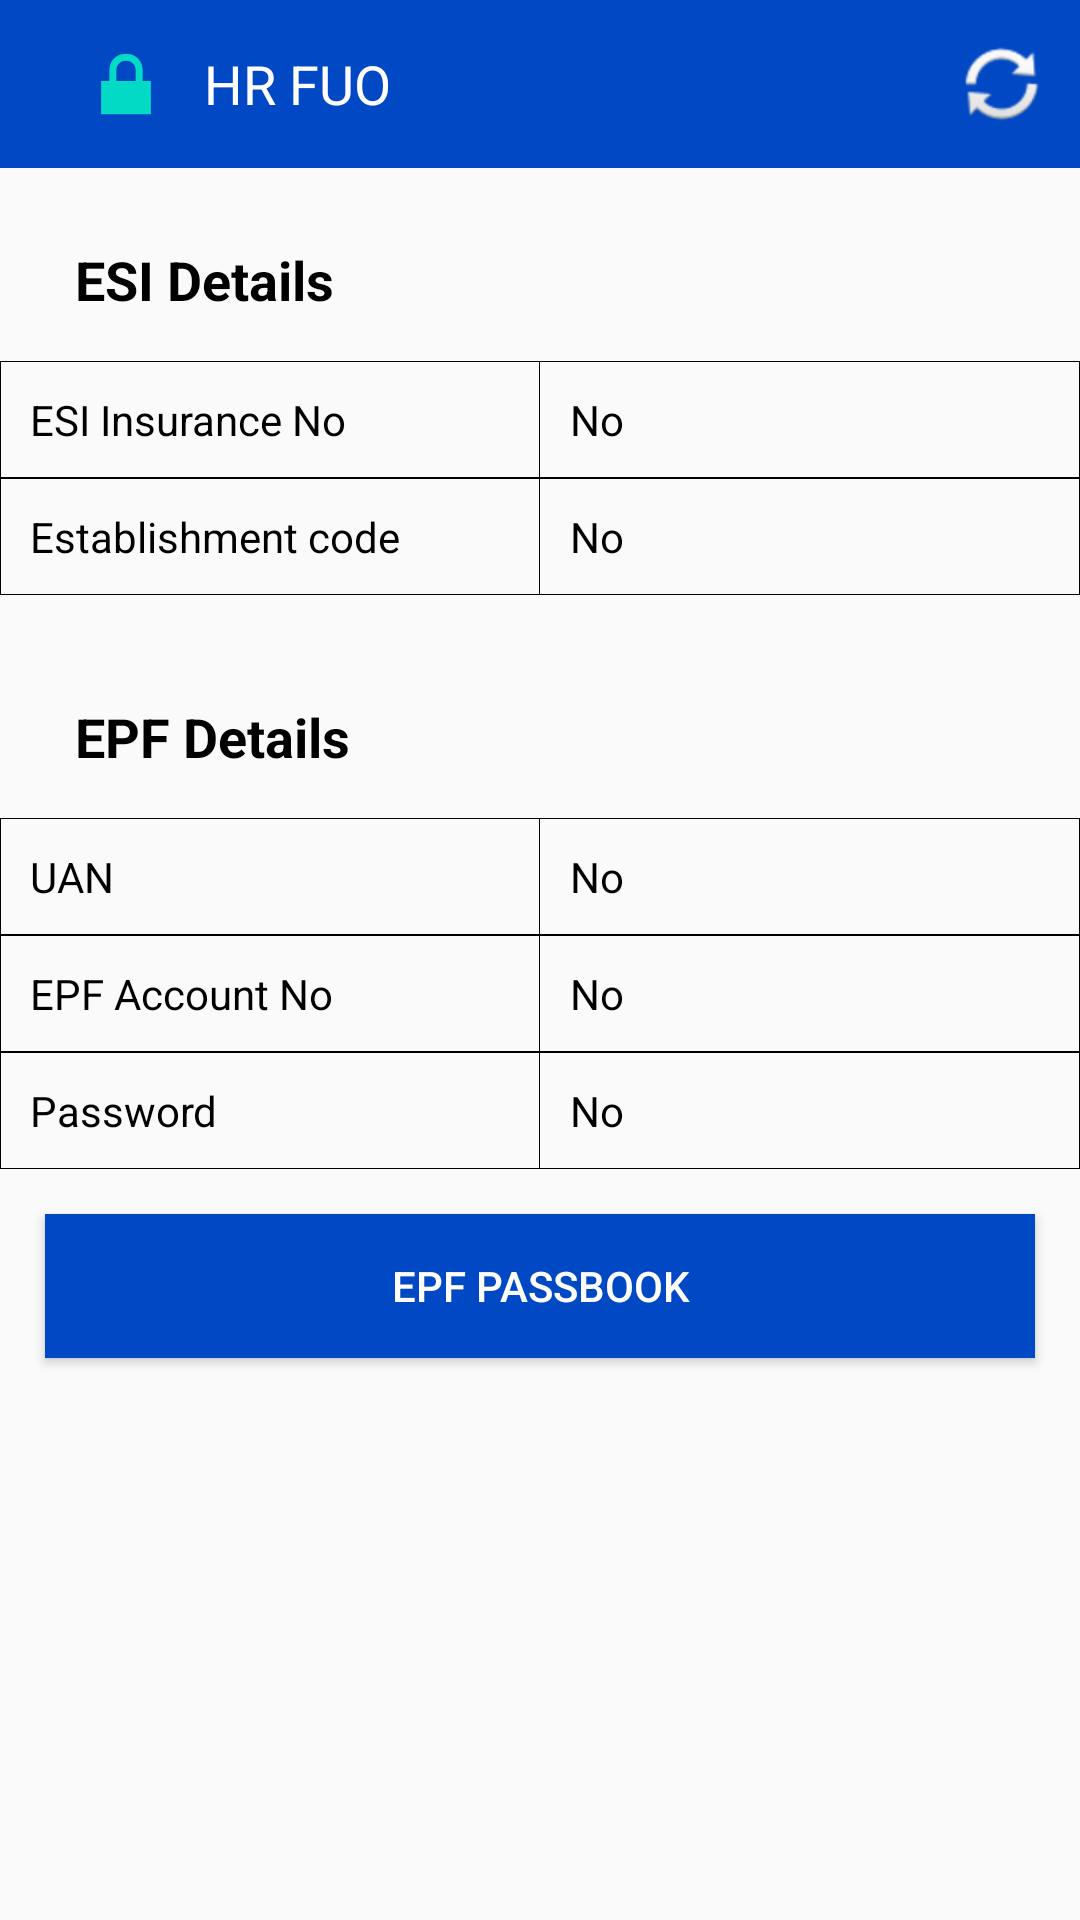

Screen size 1080 × 1920. Icon name, then its box in pixels as (x1, y1, x2, y2):
lock: (101, 53, 151, 115)
popup sync: (965, 48, 1039, 120)
